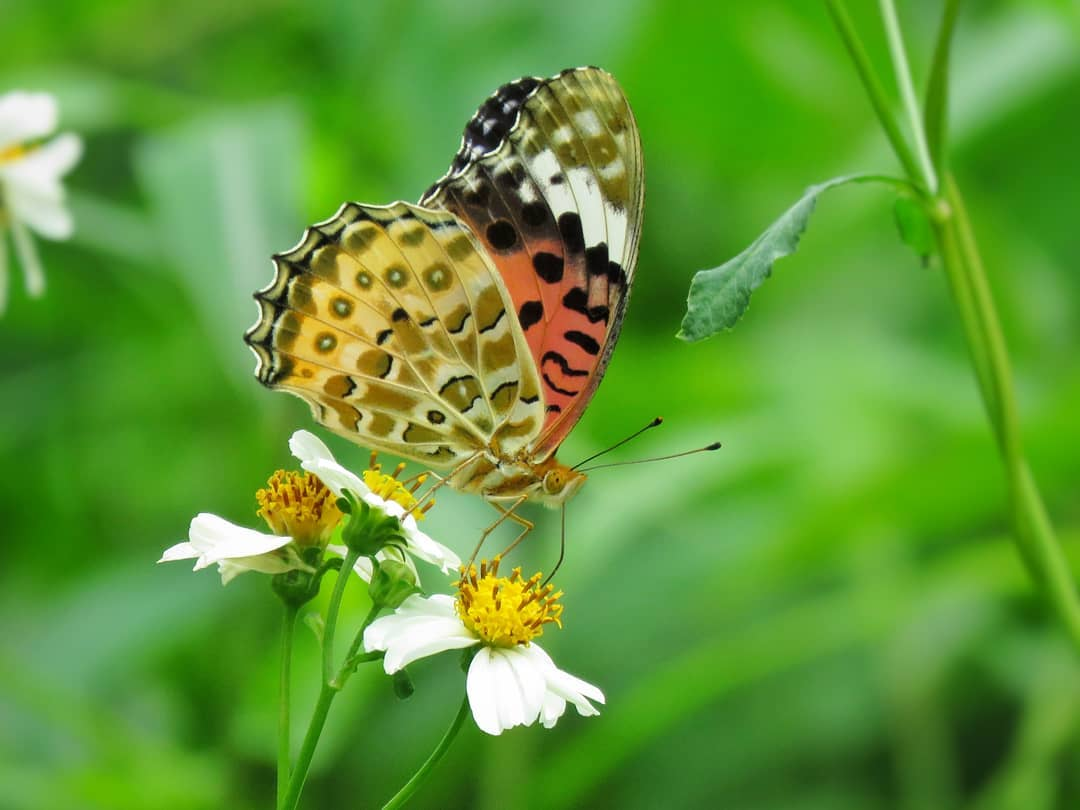Argyreus hyperbius: (246, 66, 727, 591)
butterfly: (244, 64, 725, 589)
